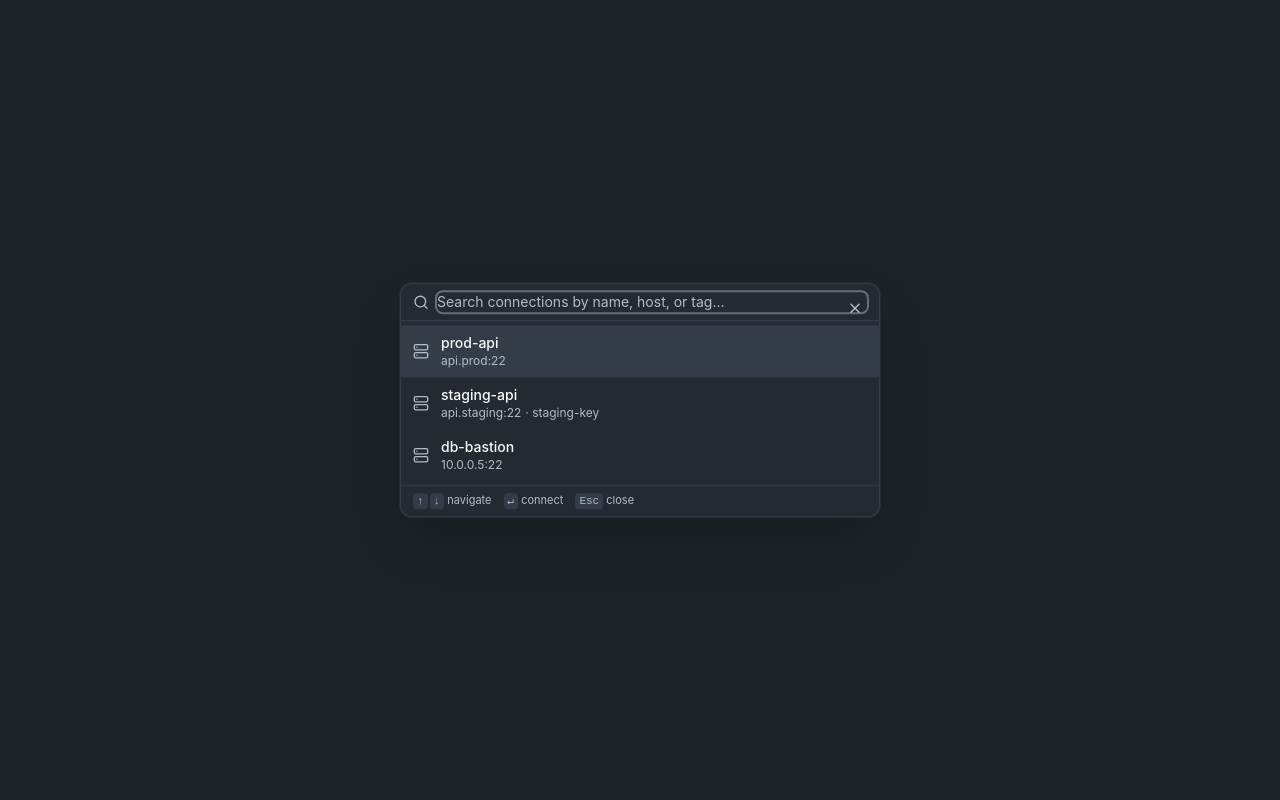
Test: ConnectPicker (command palette) › shows a no-matches message when query has no hits
Type "zzznomatch" into the dropdown labelled "Search connections by name, host, or tag…" at (652, 302), box [437,292,867,312]
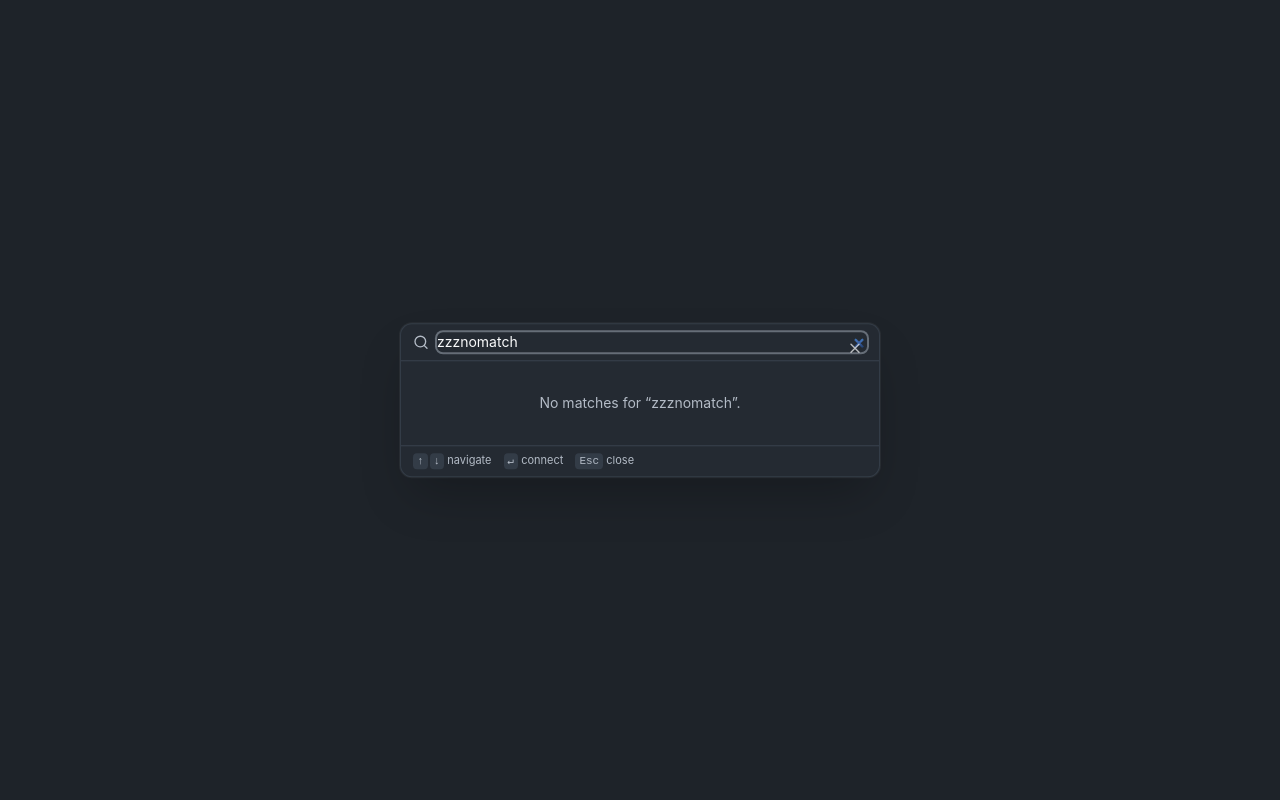
Expected: the text "No matches for “zzznomatch”." is shown, [540,394,740,411]
